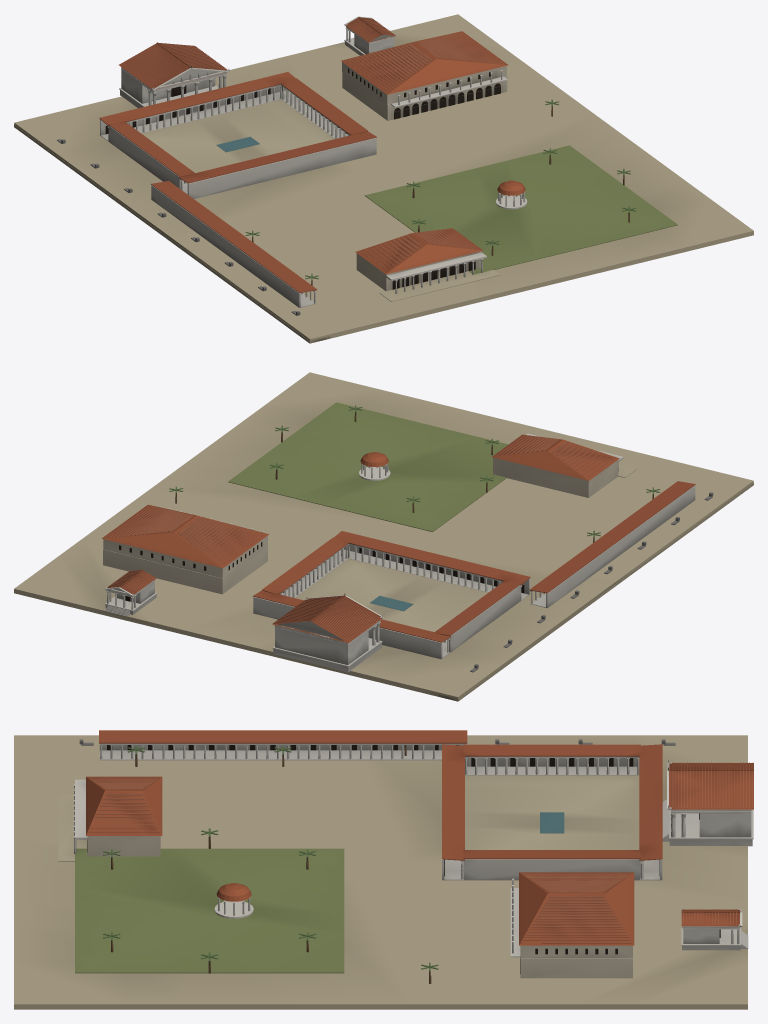
Rendered from royal-palaces.glb.
3 renders of one model, top to bottom at view 1: azimuth 30°, elevation 25°; view 2: azimuth 150°, elevation 25°; view 3: azimuth 270°, elevation 25°, orthographic. The views are drawn at different scales.
Parts seen in each view (by area): view 1: p0_terraces, p1_palaces, p2_trees; view 2: p0_terraces, p1_palaces, p2_trees; view 3: p0_terraces, p1_palaces, p2_trees.
Boxes of the visible parts, x1=… form: p0_terraces: x1=14, y1=14, x2=753, y2=343; p1_palaces: x1=57, y1=62, x2=507, y2=315; p2_trees: x1=119, y1=16, x2=636, y2=285; p0_terraces: x1=14, y1=372, x2=753, y2=701; p1_palaces: x1=103, y1=433, x2=713, y2=672; p2_trees: x1=102, y1=405, x2=660, y2=672; p0_terraces: x1=14, y1=735, x2=747, y2=1009; p1_palaces: x1=58, y1=730, x2=675, y2=978; p2_trees: x1=86, y1=745, x2=753, y2=975.
Size of the model in its own units: 260 by 27.83 by 302.
